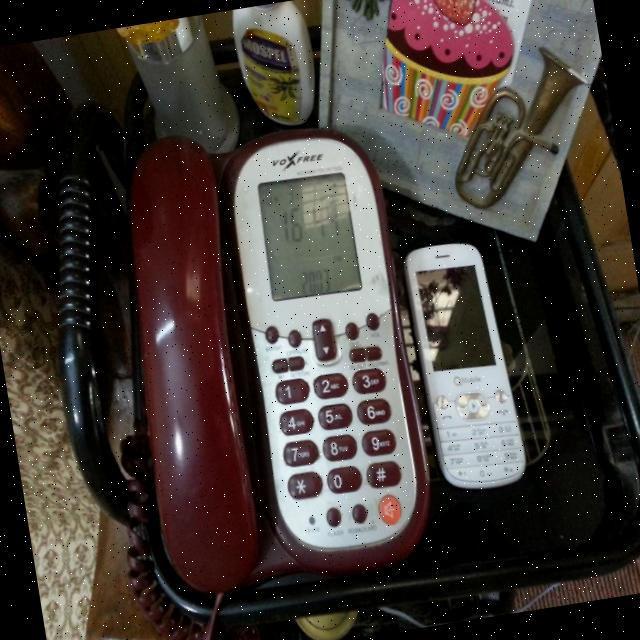Phone: (68, 95, 458, 640), (398, 232, 534, 499)
